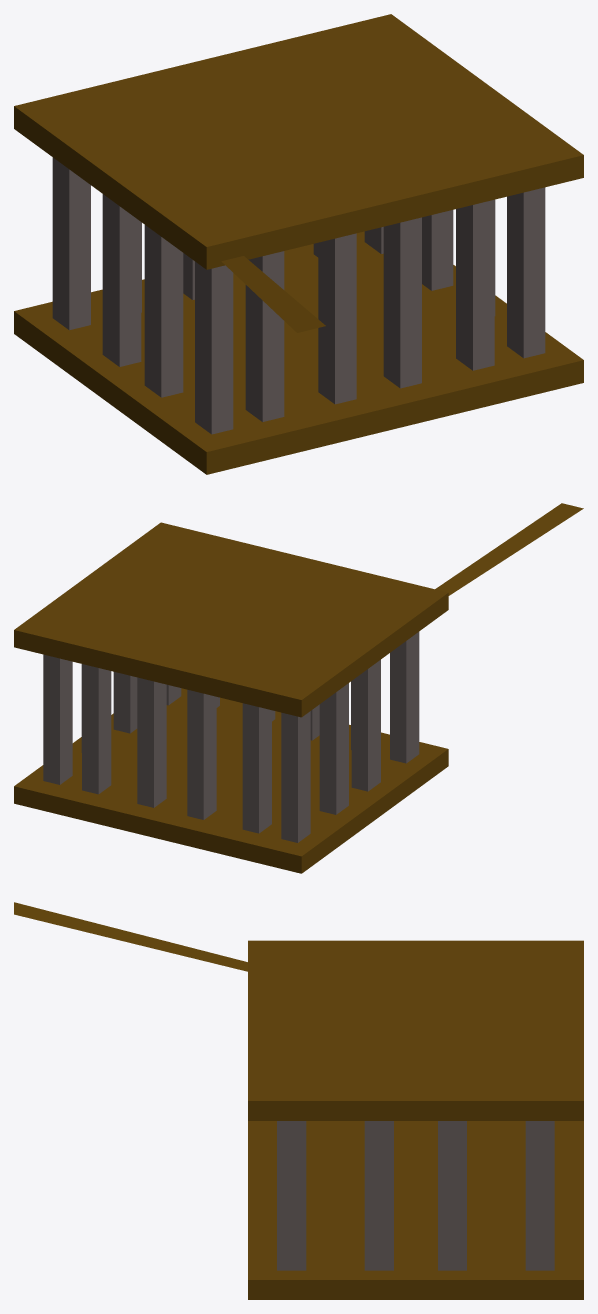
Rendered from itm_model0_lobster_pot.obj.
3 views of the same model, one above another, from view 1: azimuth 30°, elevation 25°; view 2: azimuth 150°, elevation 25°; view 3: azimuth 270°, elevation 25° (orthographic). The views are drawn at different scales.
Bounding box in the file's own units: 0.4531 × 0.2578 × 0.6094.
